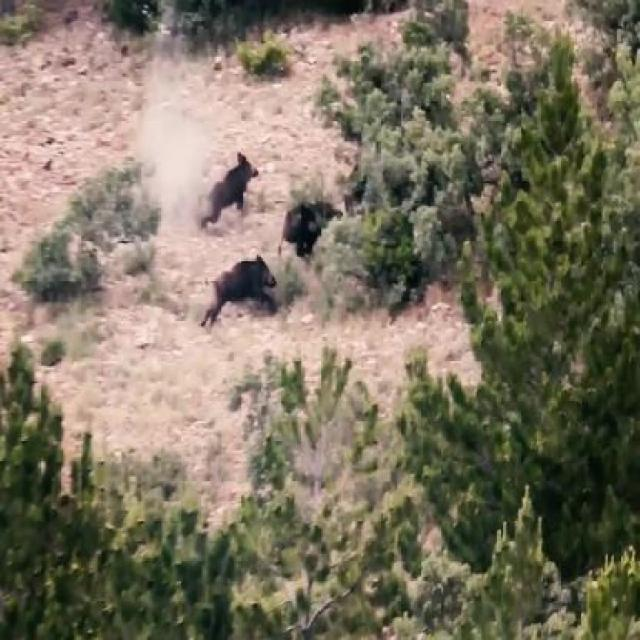pig: (198, 226, 270, 341)
